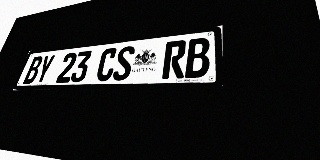2: (56, 52, 78, 83)
3: (69, 50, 92, 82)
B: (185, 37, 210, 78), (22, 56, 44, 84)
C: (95, 47, 118, 81)
R: (162, 40, 187, 79)
S: (112, 45, 136, 81)
Y: (34, 54, 56, 84)
